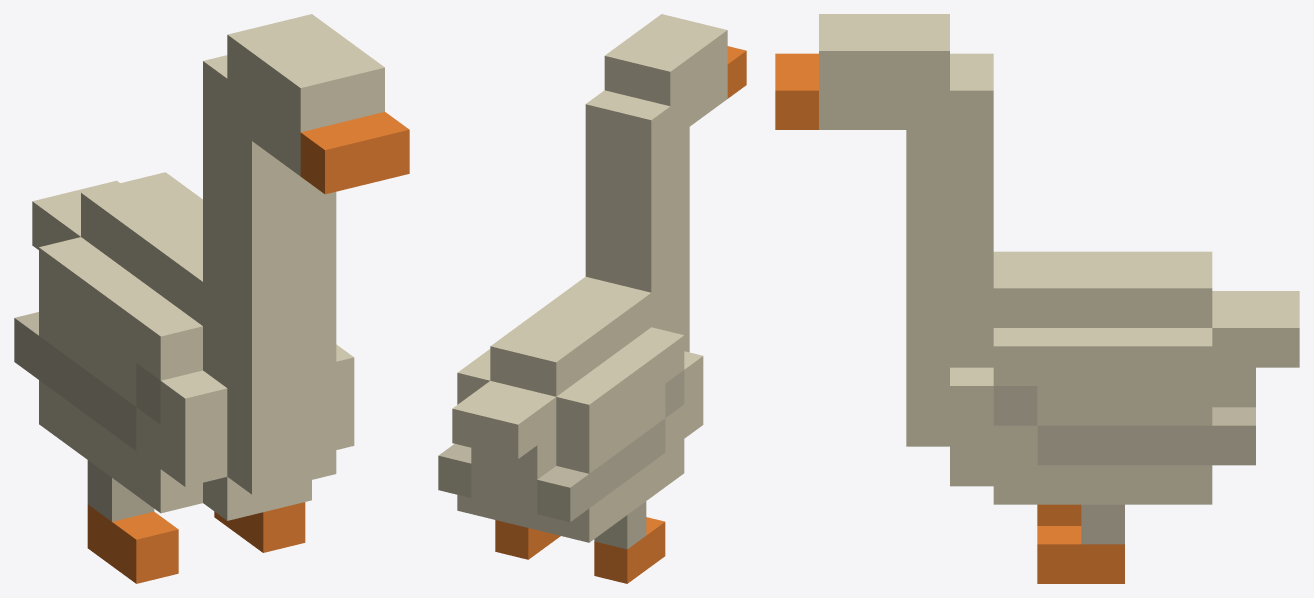
The model's file is Animal_Bird_Goose.glb.
3 views of the same model, side by side, from view 1: azimuth 30°, elevation 25°; view 2: azimuth 150°, elevation 25°; view 3: azimuth 270°, elevation 25° (orthographic). The views are drawn at different scales.
Visible parts, largest first — view 1: Animal_Bird_Goose; view 2: Animal_Bird_Goose; view 3: Animal_Bird_Goose.
Boxes of the visible parts, left/top/right/bottom form: Animal_Bird_Goose: left=14, top=14, right=409, bottom=583; Animal_Bird_Goose: left=438, top=14, right=746, bottom=583; Animal_Bird_Goose: left=775, top=14, right=1299, bottom=583.
Size of the model in its own units: 0.4 by 1.3 by 1.2.
Materials: 1 (1 with a texture image).
